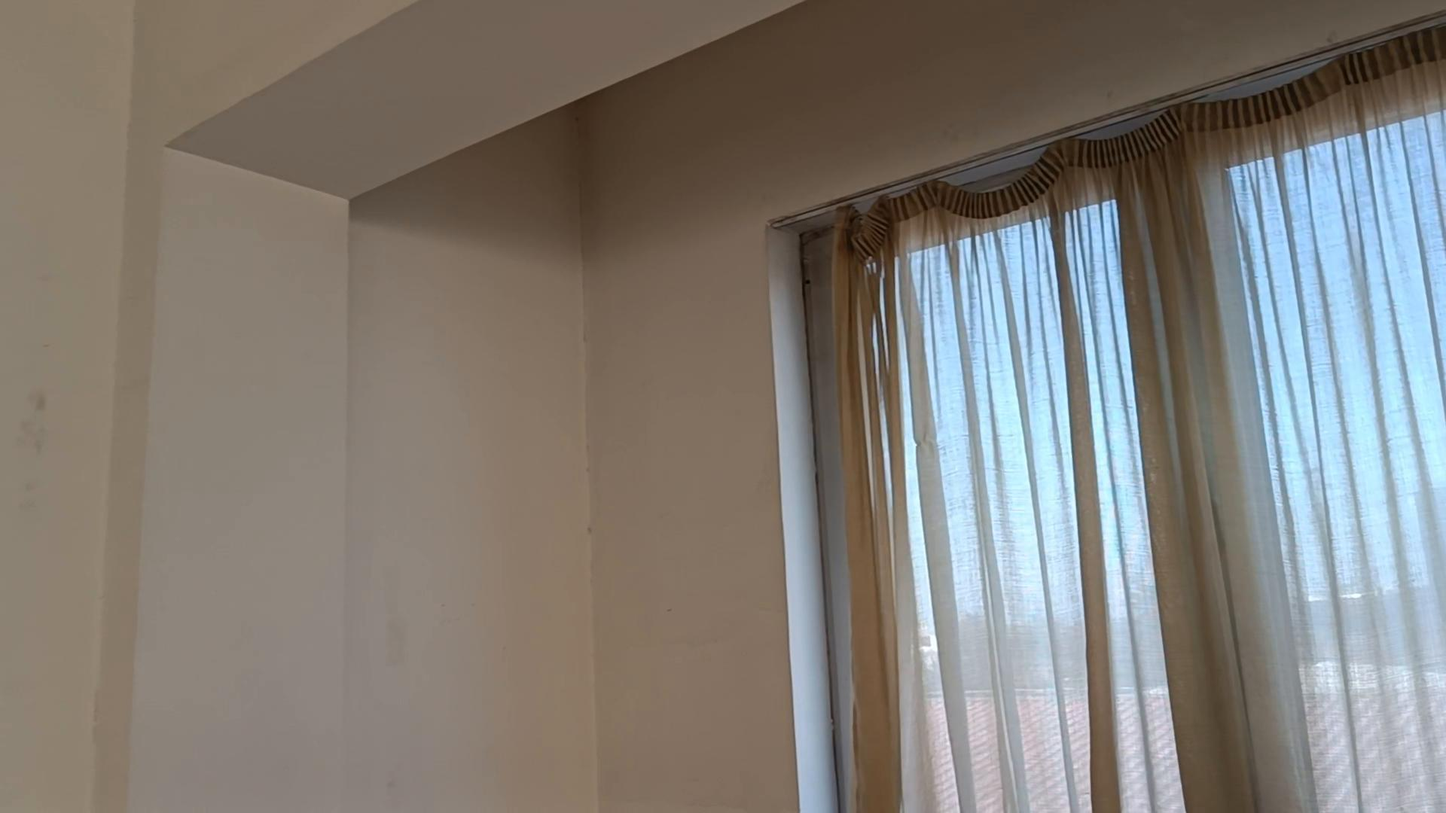ceiling: (169, 0, 802, 198)
wall: (0, 1, 1426, 813)
